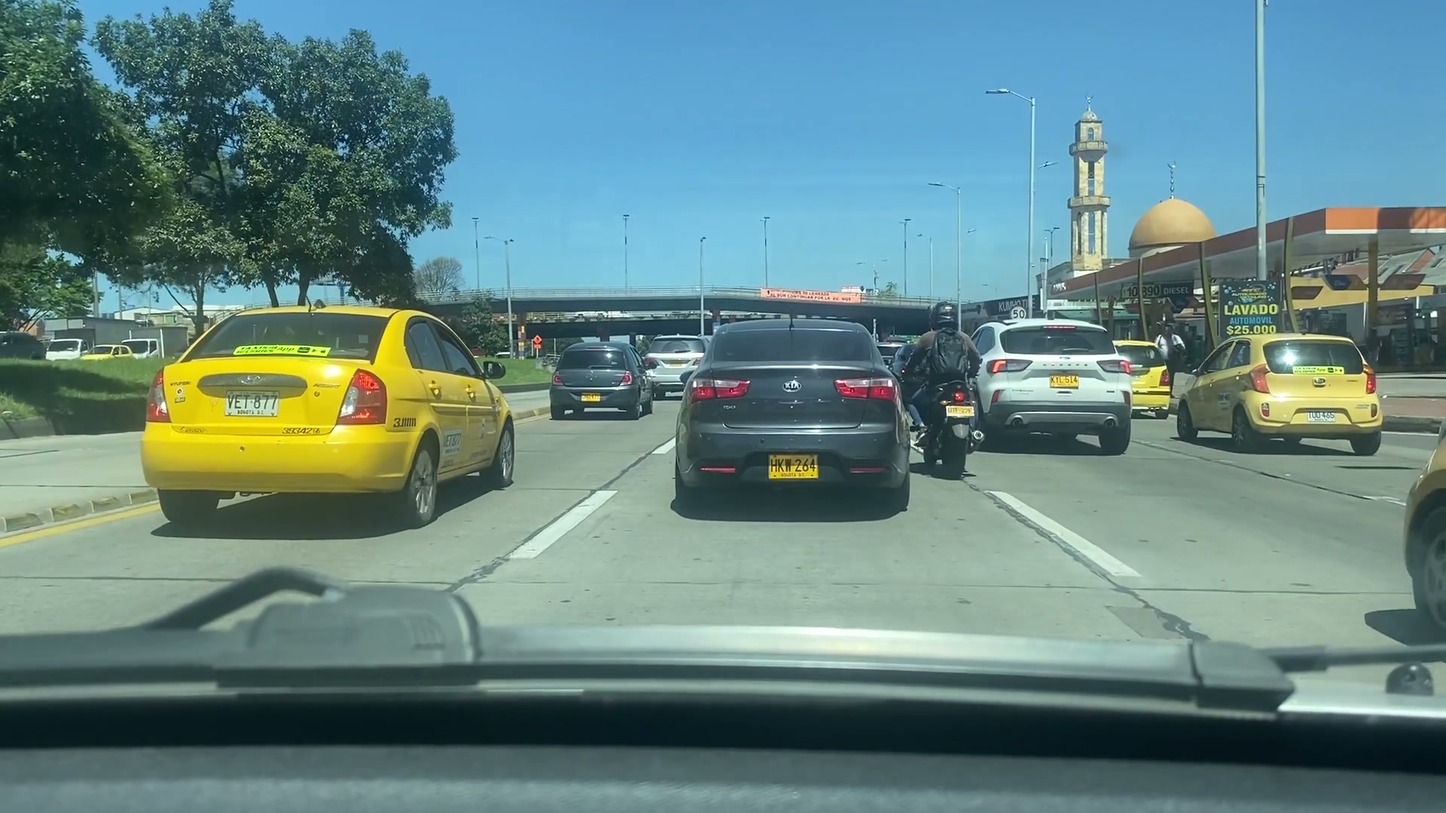car: (141, 306, 518, 530), (674, 319, 911, 506), (1166, 332, 1387, 453), (963, 323, 1137, 456), (1401, 432, 1446, 621), (545, 343, 654, 419), (1104, 334, 1175, 419), (641, 329, 714, 395)
motorcycle: (904, 372, 988, 479)
person: (908, 292, 984, 447)
